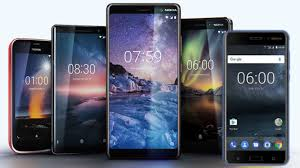nokia: (107, 1, 182, 161)
